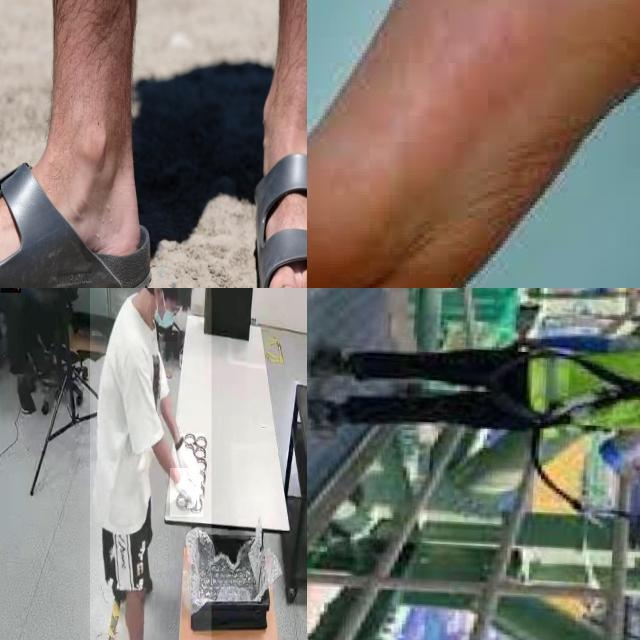Barefoots: (307, 0, 640, 288)
Harness: (480, 339, 640, 435)
Sandals: (0, 113, 156, 288), (250, 70, 307, 288)
face_mask: (151, 288, 177, 342)
hand_glove: (170, 468, 204, 518), (175, 433, 204, 485)
person: (90, 288, 212, 640), (0, 288, 59, 410)
